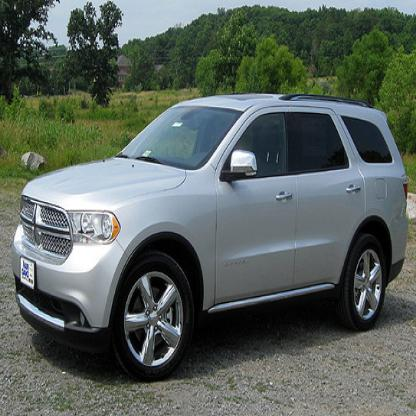Vehicle: (11, 91, 412, 386)
